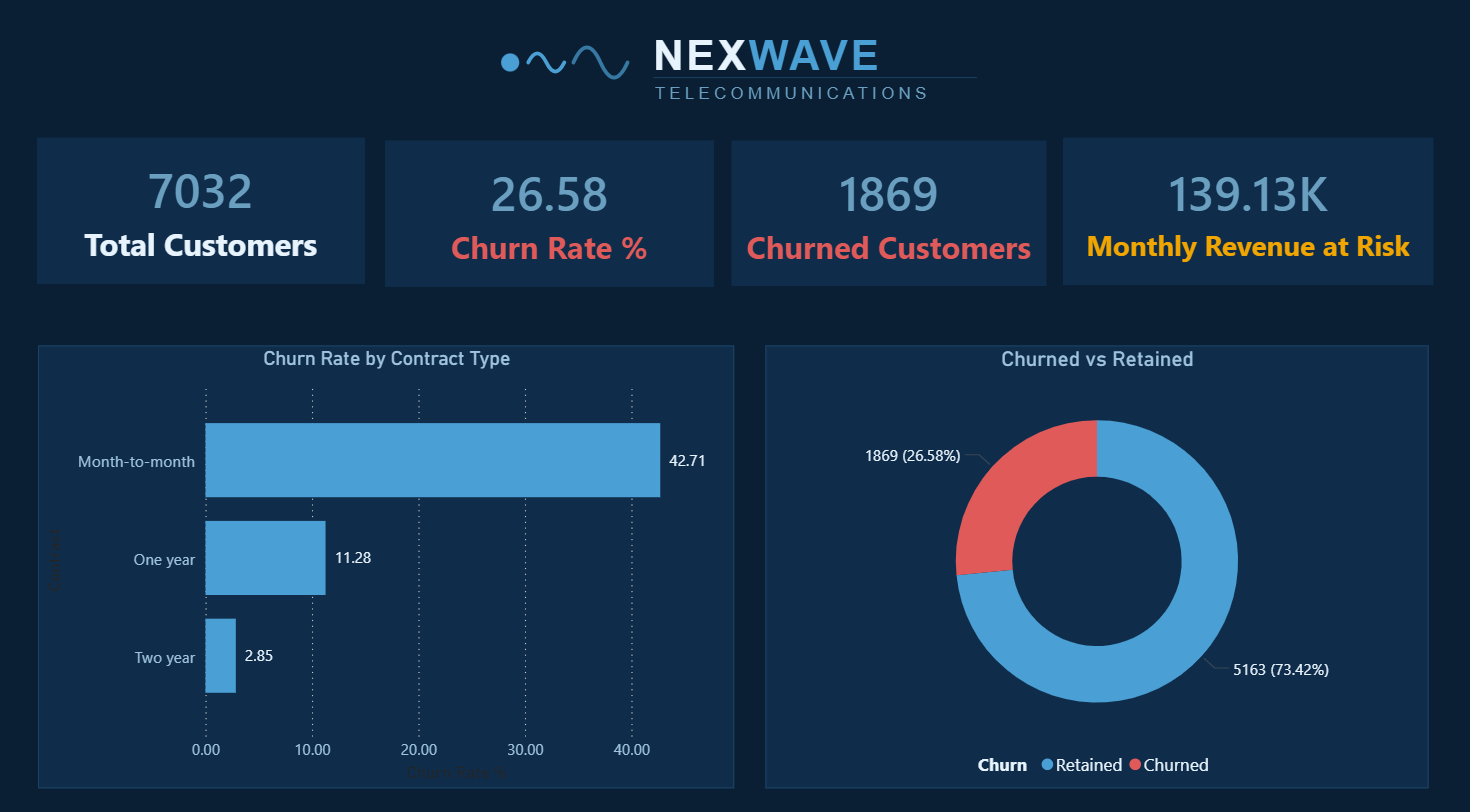

The page's visual inventory and layout, read from the dashboard file:
{"tool":"powerbi","page":{"name":"Executive Summary","canvas":[1280,720],"ordinal":0},"visuals":[{"type":"image","box":[1.4,0,1279,130.4],"z":0},{"type":"cardVisual","fields":{"Data":["telco_churn_cleaned.Total Customers"]},"box":[17.8,112.5,318.4,161.9],"z":1},{"type":"cardVisual","fields":{"Data":["telco_churn_cleaned.Churned Customers"]},"box":[618.9,115.3,307.4,160.6],"z":2},{"type":"cardVisual","fields":{"Data":["telco_churn_cleaned.Churn Rate %"]},"box":[319.8,115.3,319.8,161.9],"z":3},{"type":"cardVisual","fields":{"Data":["telco_churn_cleaned.Monthly Revenue at Risk"]},"box":[907,113.6,355.8,162],"z":4},{"type":"clusteredBarChart","title":"Churn Rate by Contract Type","fields":{"Category":["telco_churn_cleaned.Contract"],"Y":["telco_churn_cleaned.Churn Rate %"]},"box":[36.3,310.4,602.6,383.1],"z":5},{"type":"donutChart","title":"Churned vs Retained","fields":{"Y":["telco_churn_cleaned.Total Customers"],"Category":["telco_churn_cleaned.Churn Label"]},"box":[666.2,310.4,573.9,383.1],"z":6}]}

Visuals, with their boxes in screenshot pixels (x1, y1, x2, y2), scaled from the page's 1280x720 canvas onto the 1470x812 screenshot:
image: 2:0:1469:147
cardVisual - telco_churn_cleaned.Total Customers: 20:127:386:309
cardVisual - telco_churn_cleaned.Churned Customers: 711:130:1064:311
cardVisual - telco_churn_cleaned.Churn Rate %: 367:130:735:313
cardVisual - telco_churn_cleaned.Monthly Revenue at Risk: 1042:128:1450:311
"Churn Rate by Contract Type" clusteredBarChart: 42:350:734:782
"Churned vs Retained" donutChart: 765:350:1424:782
